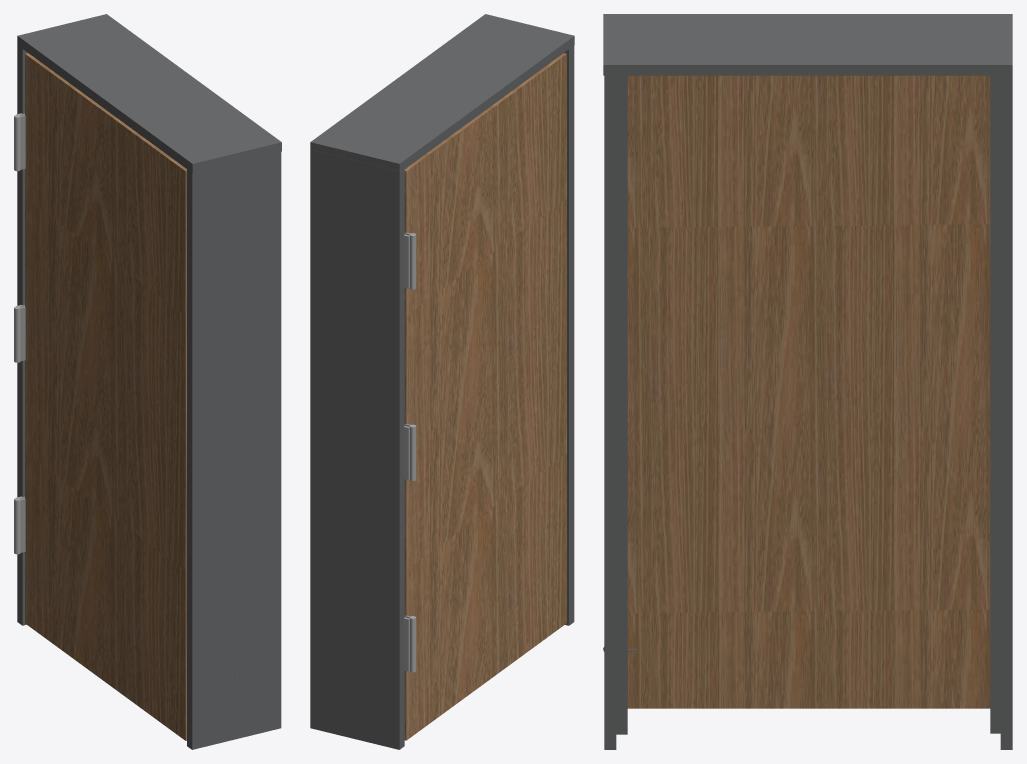
File: Door+Frame.fbx
3 views of the same model, side by side, from view 1: azimuth 30°, elevation 25°; view 2: azimuth 150°, elevation 25°; view 3: azimuth 270°, elevation 25° (orthographic). The views are drawn at different scales.
Visible parts, largest first — view 1: Cube, Cube.001; view 2: Cube, Cube.001; view 3: Cube, Cube.001.
Boxes of the visible parts, x1,y1,x2,y2 form: Cube: (25, 53, 186, 740); Cube.001: (17, 14, 281, 749); Cube: (404, 53, 566, 740); Cube.001: (310, 14, 574, 749); Cube: (627, 75, 990, 708); Cube.001: (603, 14, 1012, 749).
Size of the model in its own units: 44.29 by 251 by 136.
Materials: 6 (1 with a texture image).
